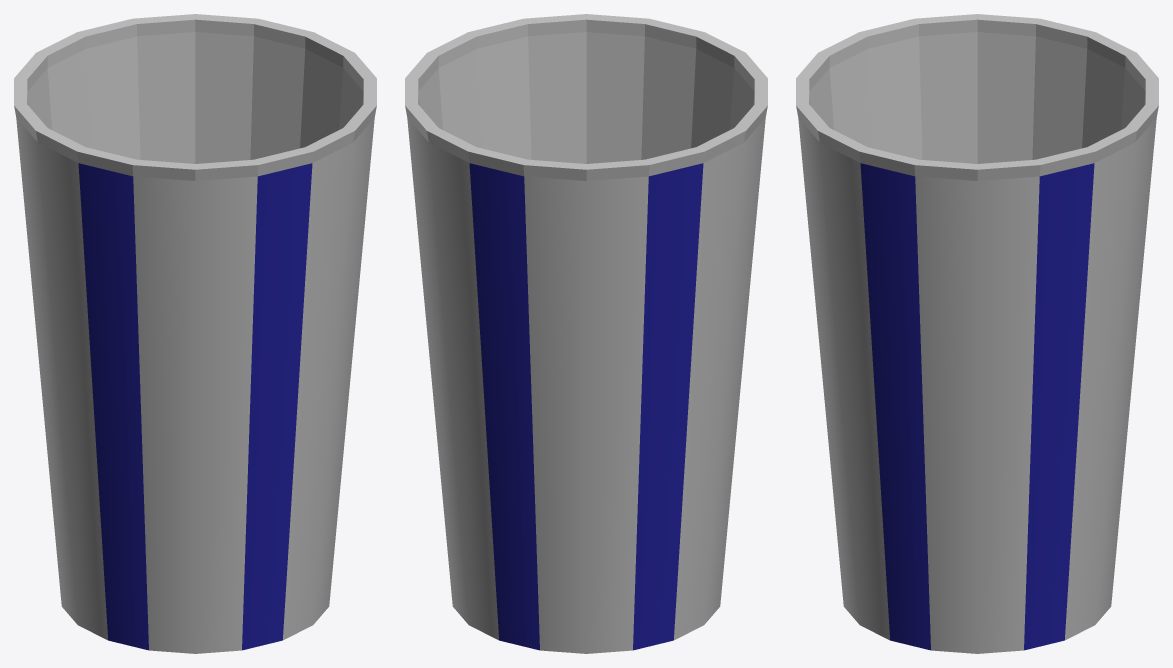
The model's file is BlueCup.fbx.
The picture shows the model from 3 angles, left to right: view 1: azimuth 30°, elevation 25°; view 2: azimuth 150°, elevation 25°; view 3: azimuth 270°, elevation 25°; orthographic projection.
Parts seen in each view (by area): view 1: BlueCup; view 2: BlueCup; view 3: BlueCup.
Boxes of the visible parts, <box> form: BlueCup: <box>14,14,376,653</box>; BlueCup: <box>405,14,767,653</box>; BlueCup: <box>796,14,1158,653</box>.
Size of the model in its own units: 26.87 by 40.61 by 26.47.
